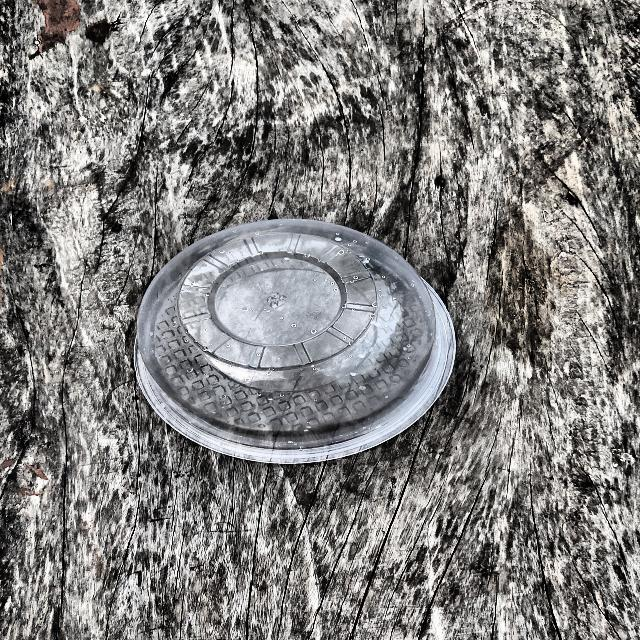plastic container: (106, 203, 485, 466)
